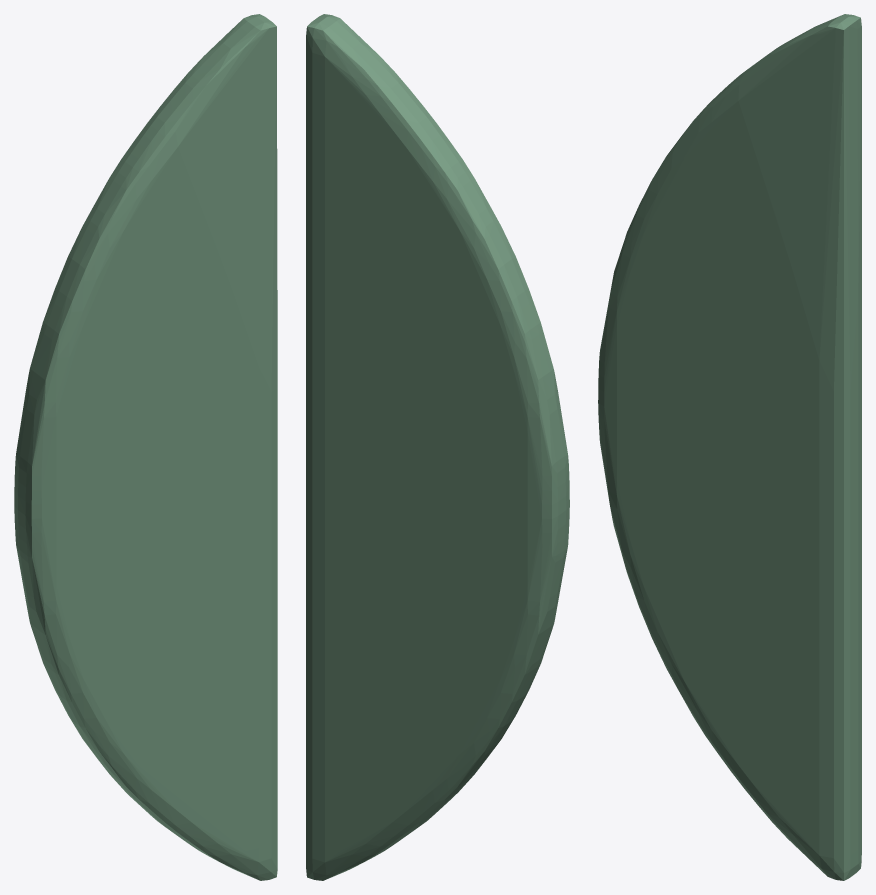
The model's file is right_forearm_0_part_0.obj.
The picture shows the model from 3 angles, left to right: view 1: azimuth 30°, elevation 25°; view 2: azimuth 150°, elevation 25°; view 3: azimuth 330°, elevation 25°; orthographic projection.
Bounding box in the file's own units: 35.84 × 118 × 5.89.
